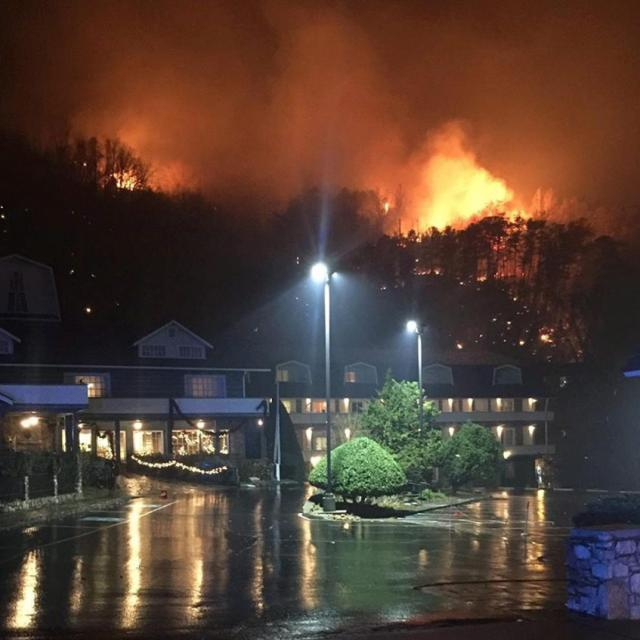Fire: (402, 162, 512, 260), (89, 158, 150, 199)
Smoke: (75, 12, 593, 190)
